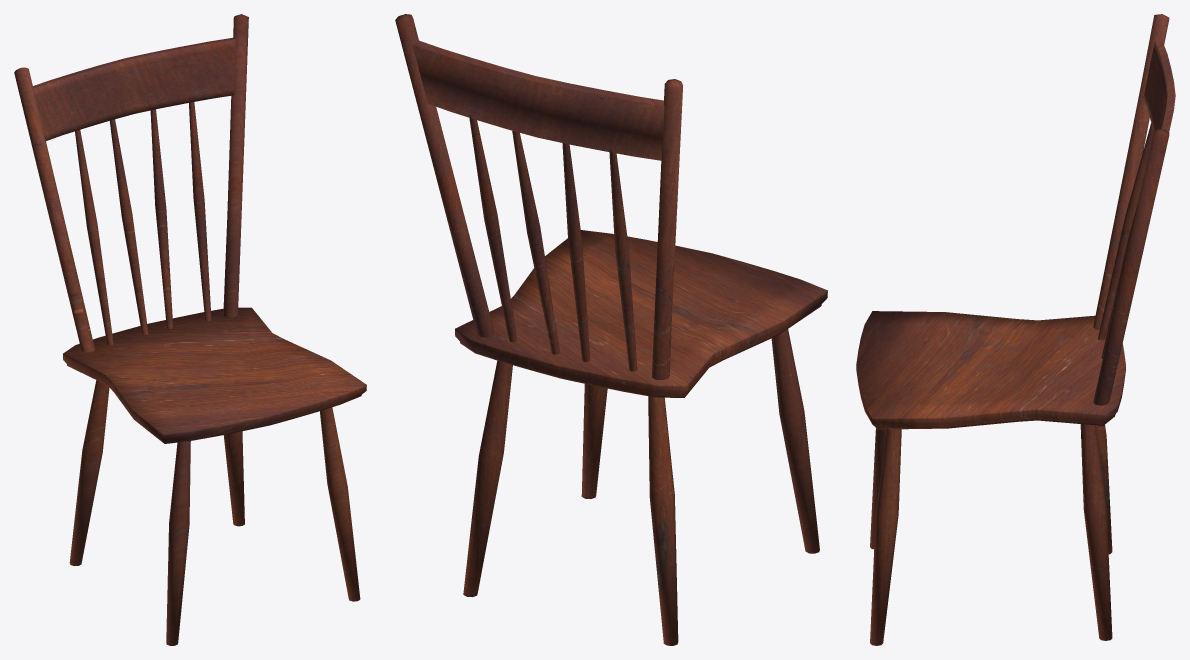
File: chair.obj
3 views of the same model, side by side, from view 1: azimuth 30°, elevation 25°; view 2: azimuth 150°, elevation 25°; view 3: azimuth 270°, elevation 25° (orthographic). The views are drawn at different scales.
Visible parts, largest first — view 1: Old_wooden_chair_Plane; view 2: Old_wooden_chair_Plane; view 3: Old_wooden_chair_Plane.
Boxes of the visible parts, x1,y1,x2,y2 form: Old_wooden_chair_Plane: (14, 14, 366, 645); Old_wooden_chair_Plane: (395, 14, 827, 645); Old_wooden_chair_Plane: (856, 14, 1175, 645).
Bounding box in the file's own units: 2.28 × 4.55 × 2.52.
1 material, 1 textured.
